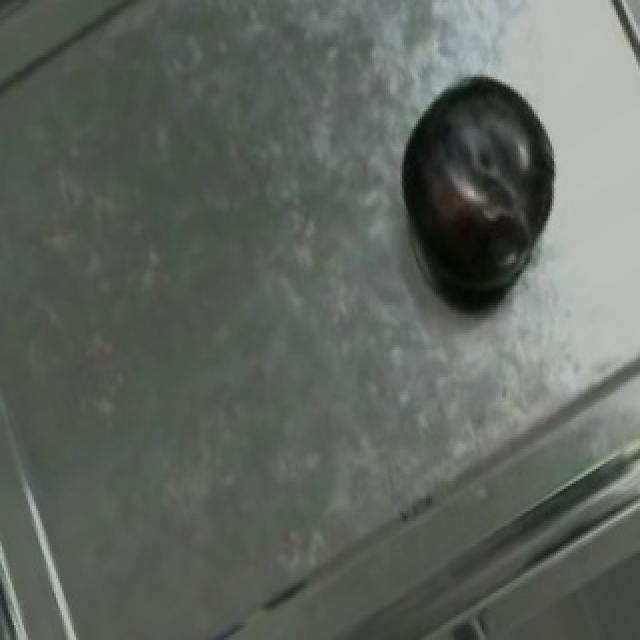Fruit: (380, 57, 578, 268)
